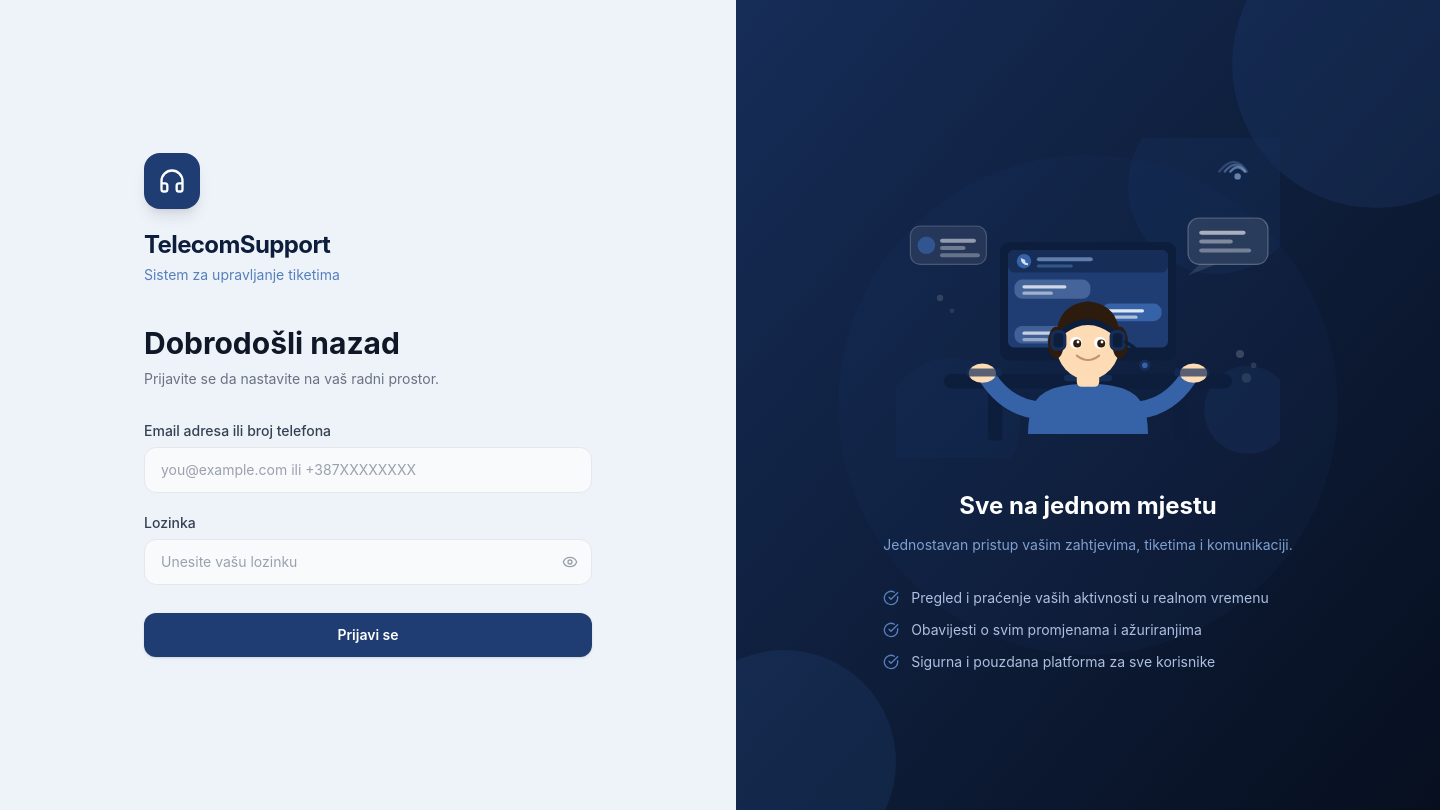
Scenario: Login page › shows generic error message when login fails
This screenshot has width=1440, height=810.
Type "user@example.com" into the field labelled "Email adresa ili broj telefona" at (368, 470), box top-left (144, 447), bottom-right (592, 493)
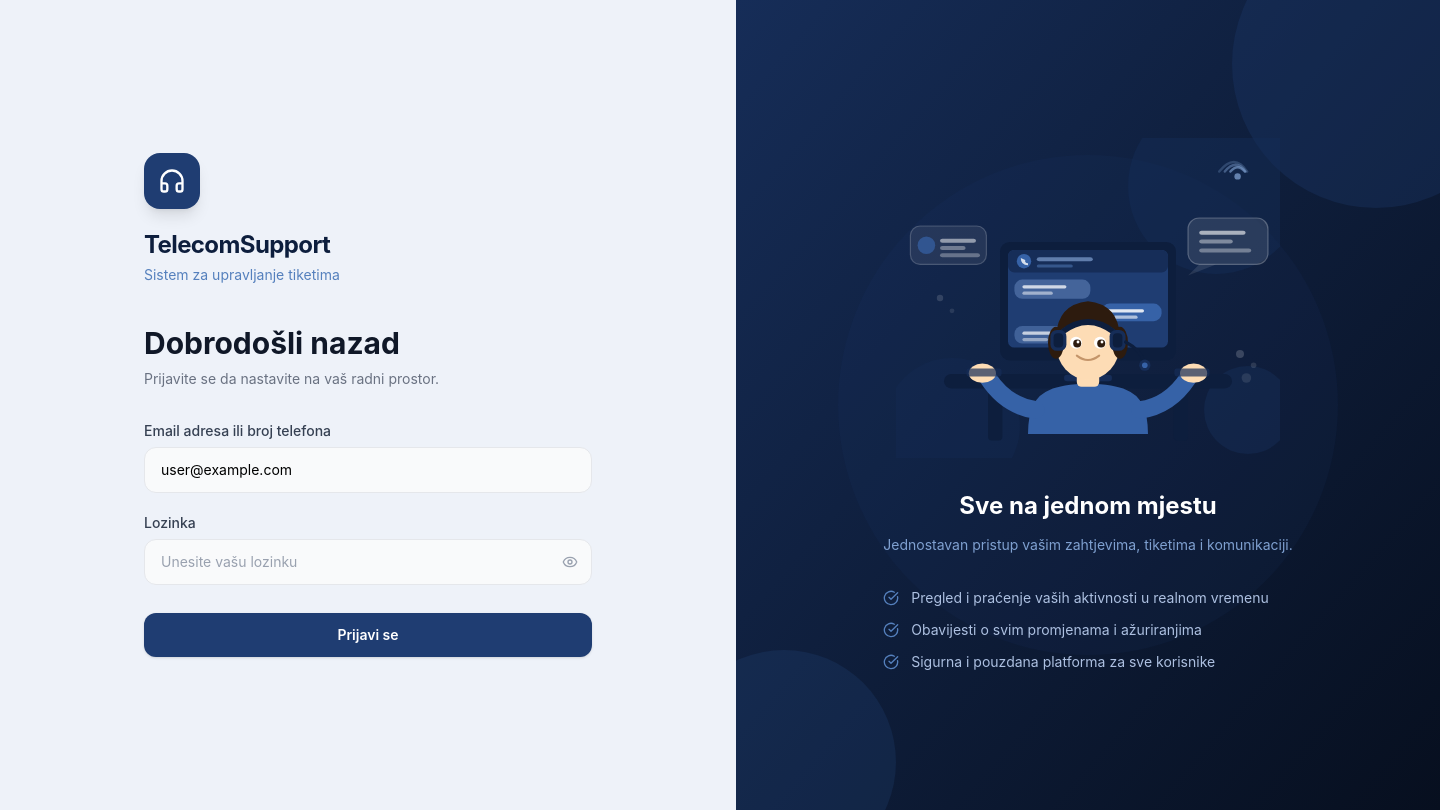
Type "Password123!" into the password field labelled "Lozinka" at (368, 562), box top-left (144, 539), bottom-right (592, 585)
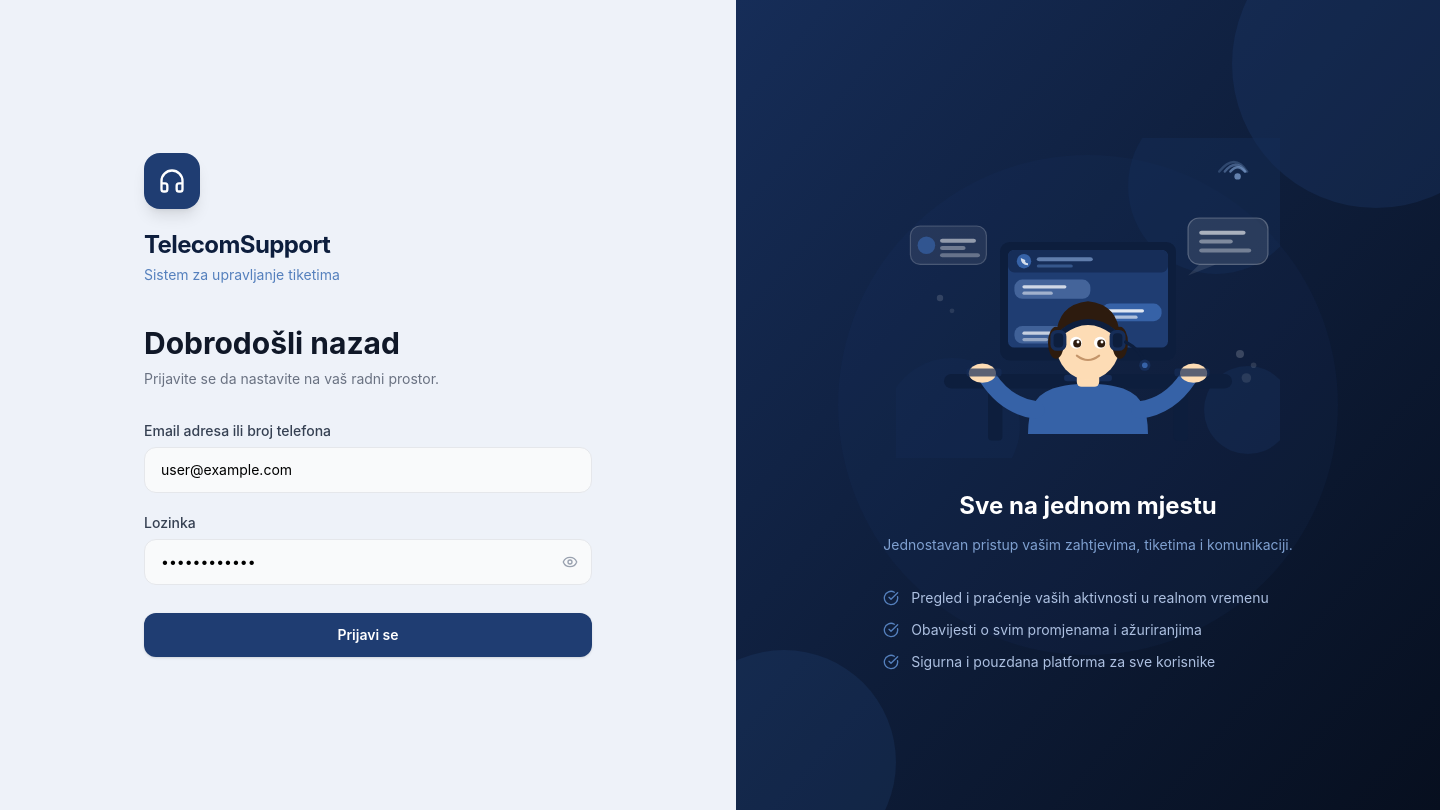
Submit the form "Email adresa ili broj telefona Lozinka Prijavi se", box top-left (144, 421), bottom-right (592, 657)
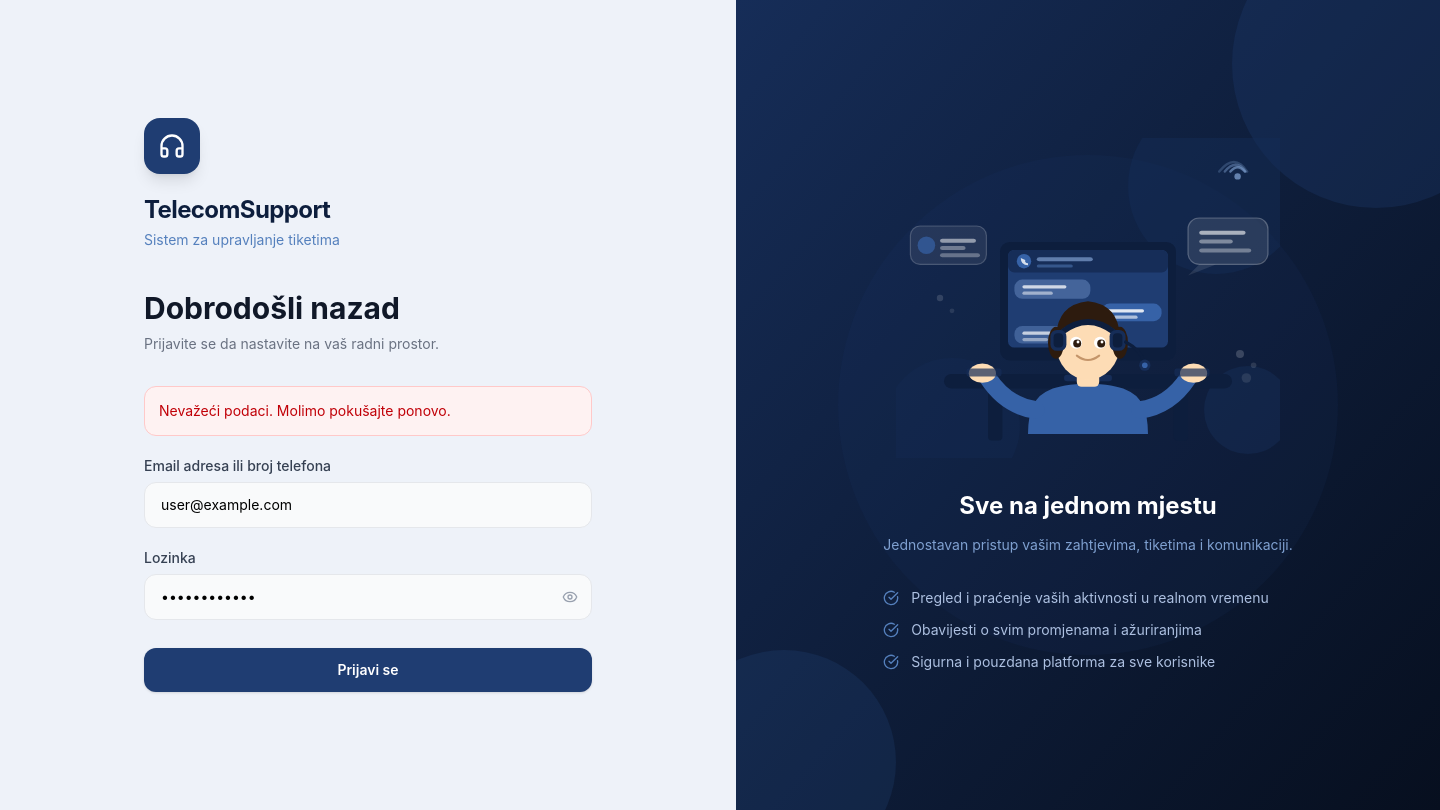
Now the text "Nevažeći podaci. Molimo pokušajte ponovo." is shown, box top-left (144, 386), bottom-right (592, 436)
